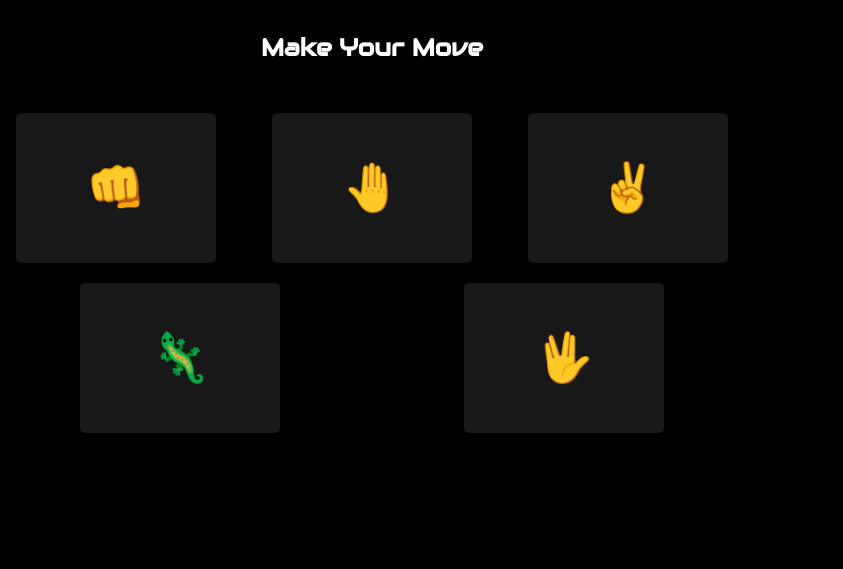
Test: Game Component › should display confetti and emoji rain on win
Click the button "👊" at coordinates (116, 188), box [16, 113, 216, 263]
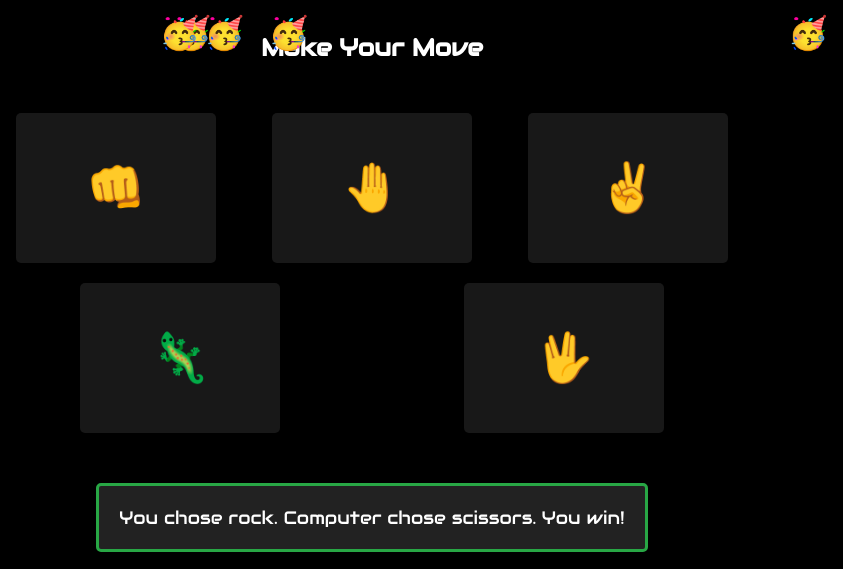
Expected: the text "You chose rock. Computer chose scissors. You win!" is shown, [96, 483, 648, 552]
